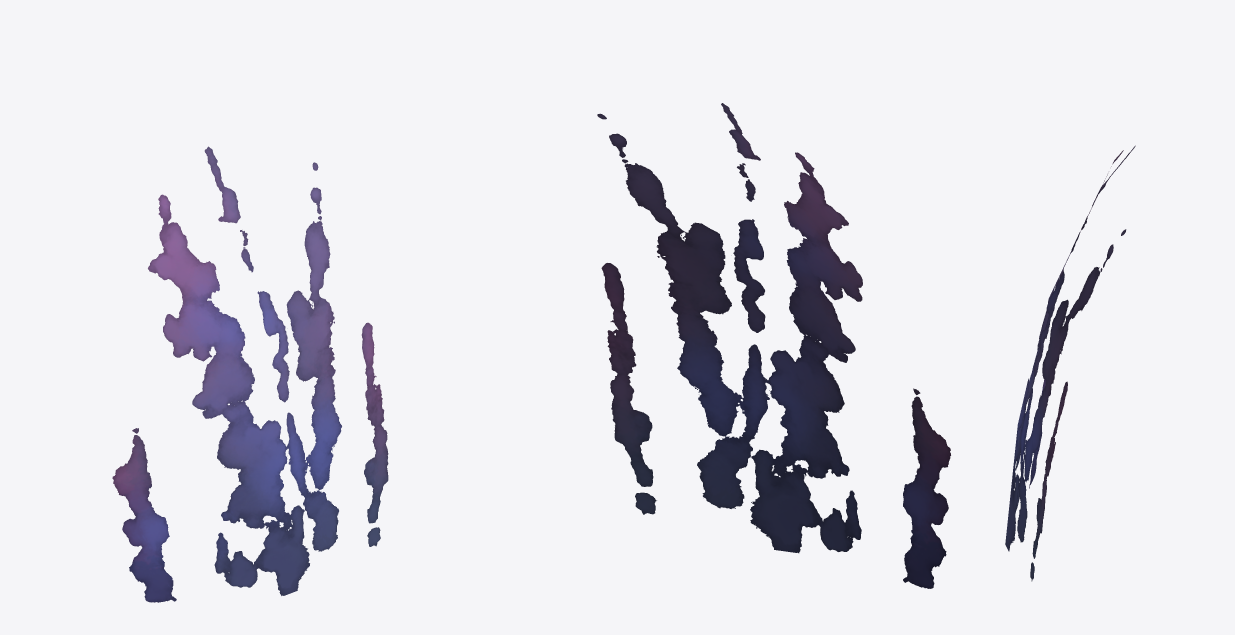
The model's file is MSH_GrassCards_02.fbx.
3 views of the same model, side by side, from view 1: azimuth 30°, elevation 25°; view 2: azimuth 150°, elevation 25°; view 3: azimuth 270°, elevation 25° (orthographic). The views are drawn at different scales.
Visible parts, largest first — view 1: polySurface4; view 2: polySurface4; view 3: polySurface4.
Boxes of the visible parts, bbox=[...] form: polySurface4: bbox=[112, 146, 388, 602]; polySurface4: bbox=[597, 103, 950, 588]; polySurface4: bbox=[1005, 145, 1135, 581].
Size of the model in its own units: 121 by 167 by 71.83.
